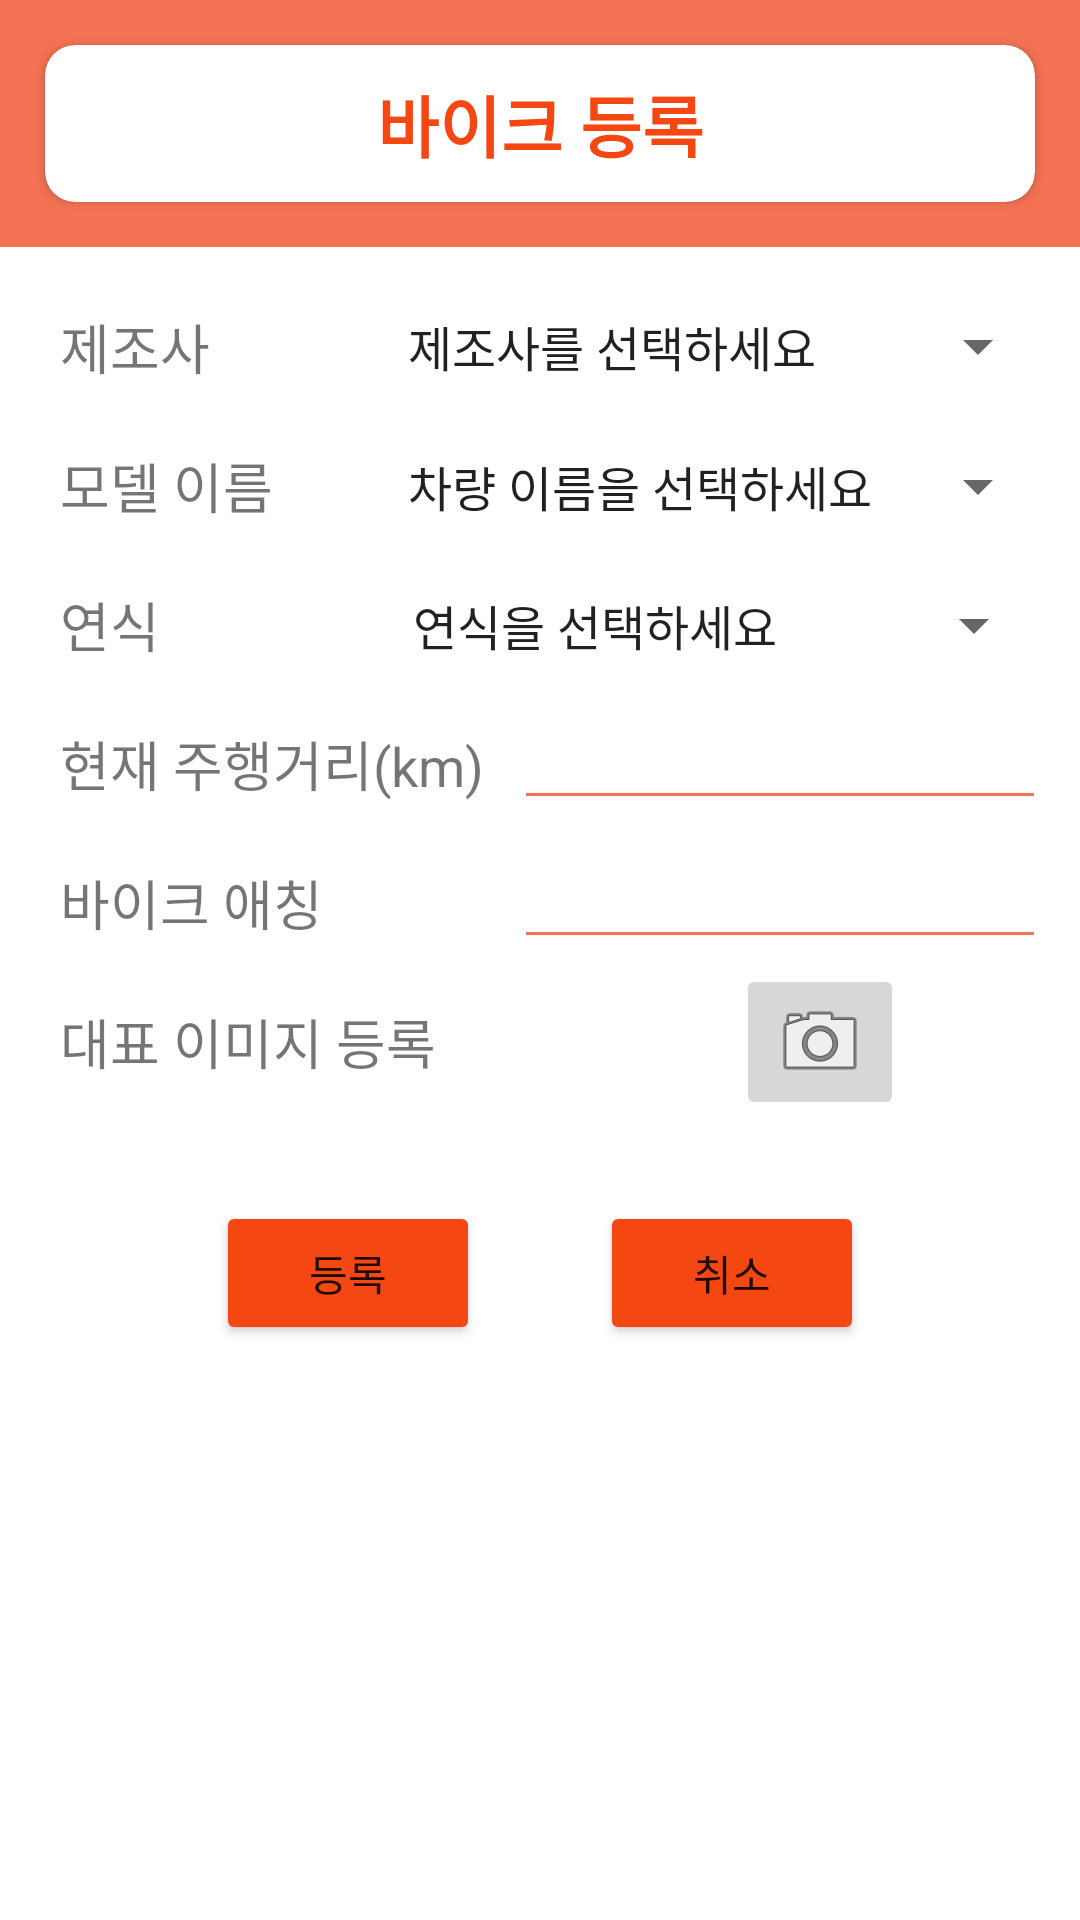

Named icons in this screenshot (1080*1920) and their centers, (x,y):
camera: (820,1042)
